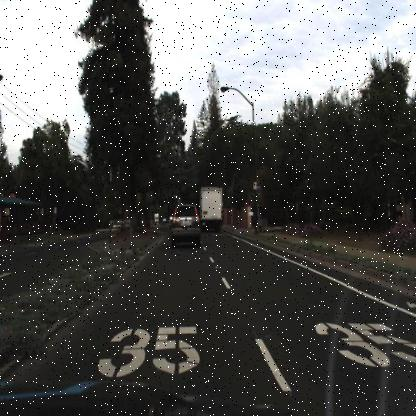car: (164, 198, 204, 258), (196, 182, 229, 236)
truck: (199, 182, 225, 232), (153, 211, 158, 225)
